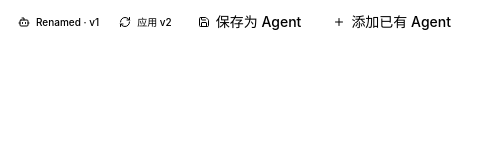
Scenario: task member profile commands › applies an explicit profile update while retaining task overrides and the active execution snapshot
Expected: the button "添加已有 Agent" is disabled, [321,6,463,38]
Click the button "应用 v2": (145, 22) [113,10,178,34]
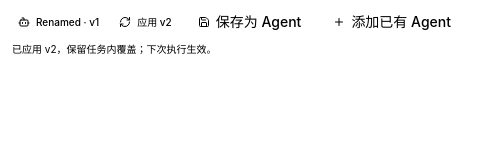
Result: the text "已应用 v2，保留任务内覆盖；下次执行生效。" is shown at [12,43,216,55]
